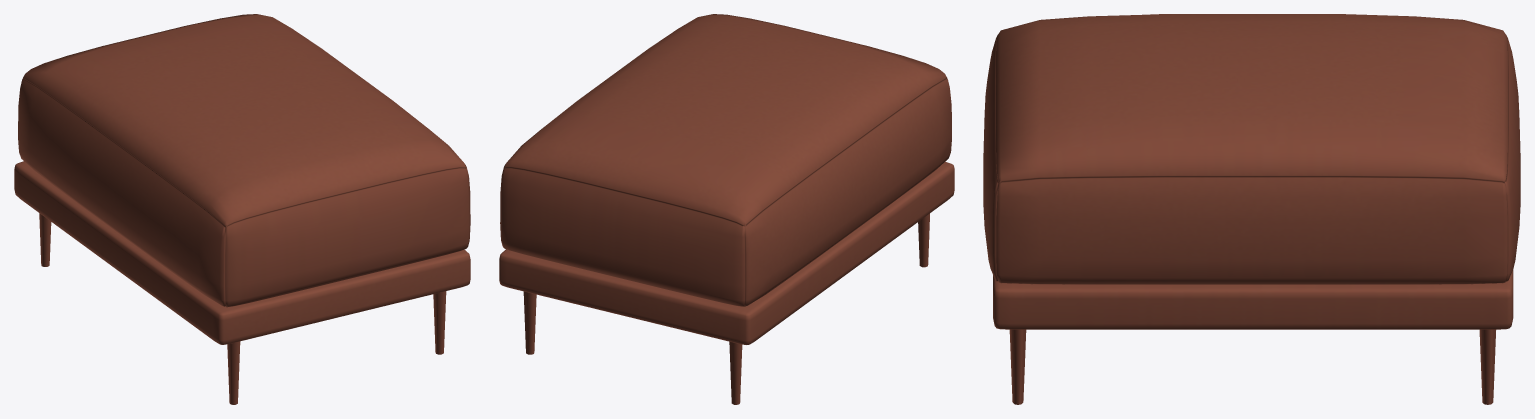
The model's file is GG_Level1_Asset_Coach_FootRest.fbx.
3 views of the same model, side by side, from view 1: azimuth 30°, elevation 25°; view 2: azimuth 150°, elevation 25°; view 3: azimuth 270°, elevation 25° (orthographic). The views are drawn at different scales.
Visible parts, largest first — view 1: pCylinder23; view 2: pCylinder23; view 3: pCylinder23.
Boxes of the visible parts, left/top/right/bottom form: pCylinder23: left=14, top=14, right=470, bottom=404; pCylinder23: left=499, top=14, right=954, bottom=404; pCylinder23: left=983, top=14, right=1520, bottom=404.
Size of the model in its own units: 65.1 by 52.2 by 91.83.
1 material, 1 textured.
